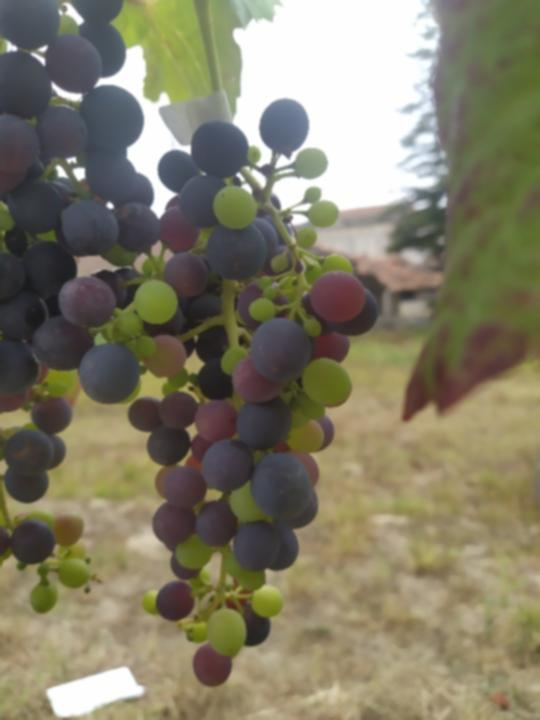grape: (28, 95, 382, 690)
